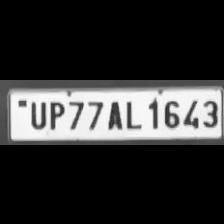1: (144, 96, 160, 128)
3: (198, 96, 218, 127)
4: (181, 96, 199, 127)
6: (160, 96, 180, 128)
7: (64, 96, 84, 130), (83, 96, 103, 130)
A: (103, 96, 123, 130)
L: (122, 97, 142, 129)
P: (46, 97, 66, 128)
U: (26, 97, 48, 128)
